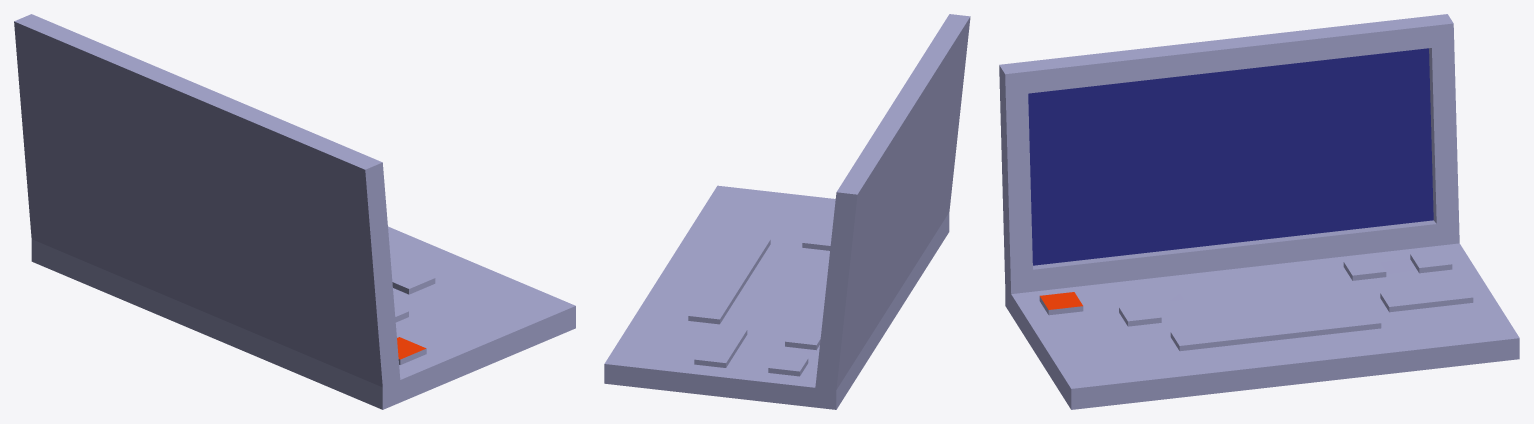
File: laptop2.glb
3 renders of one model, left to right at view 1: azimuth 30°, elevation 25°; view 2: azimuth 150°, elevation 25°; view 3: azimuth 270°, elevation 25°, orthographic. The views are drawn at different scales.
Visible parts, largest first — view 1: compu; view 2: compu; view 3: compu.
Boxes of the visible parts, bbox=[...] form: compu: bbox=[14, 14, 575, 409]; compu: bbox=[604, 14, 970, 409]; compu: bbox=[999, 14, 1519, 409].
Size of the model in its own units: 54.06 by 35.46 by 72.3.
